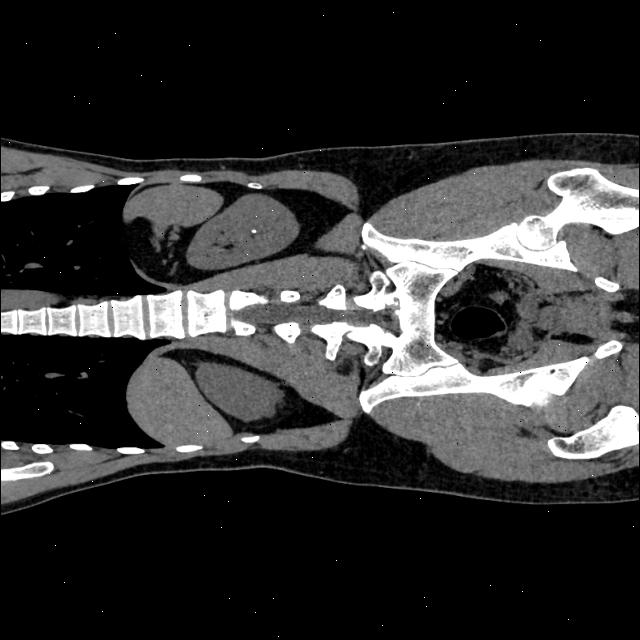kidneystone: (250, 228, 257, 240)
